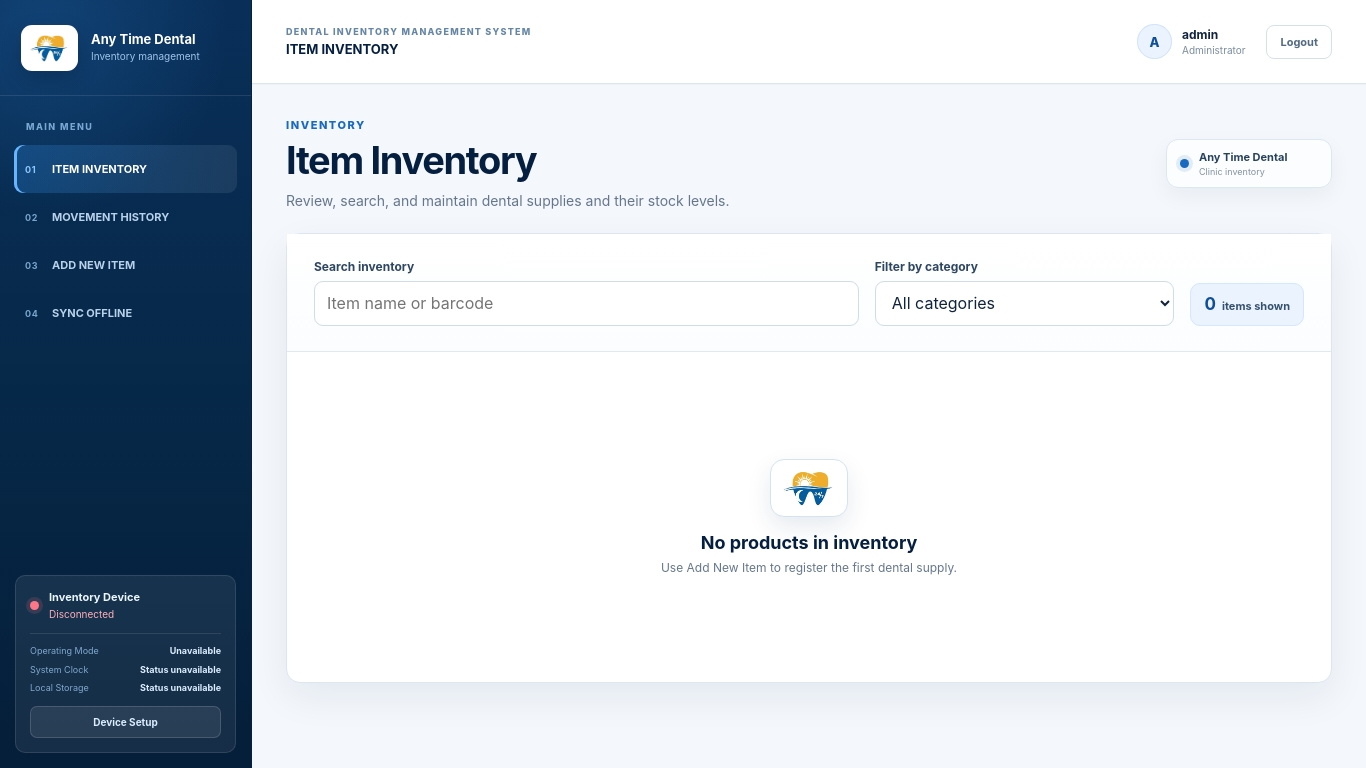
clinic device setup › lets an operator choose among multiple BLE candidates before filling the address
The image size is (1366, 768).
Click the button "Device Setup": {"x": 126, "y": 722} [30,706,221,738]
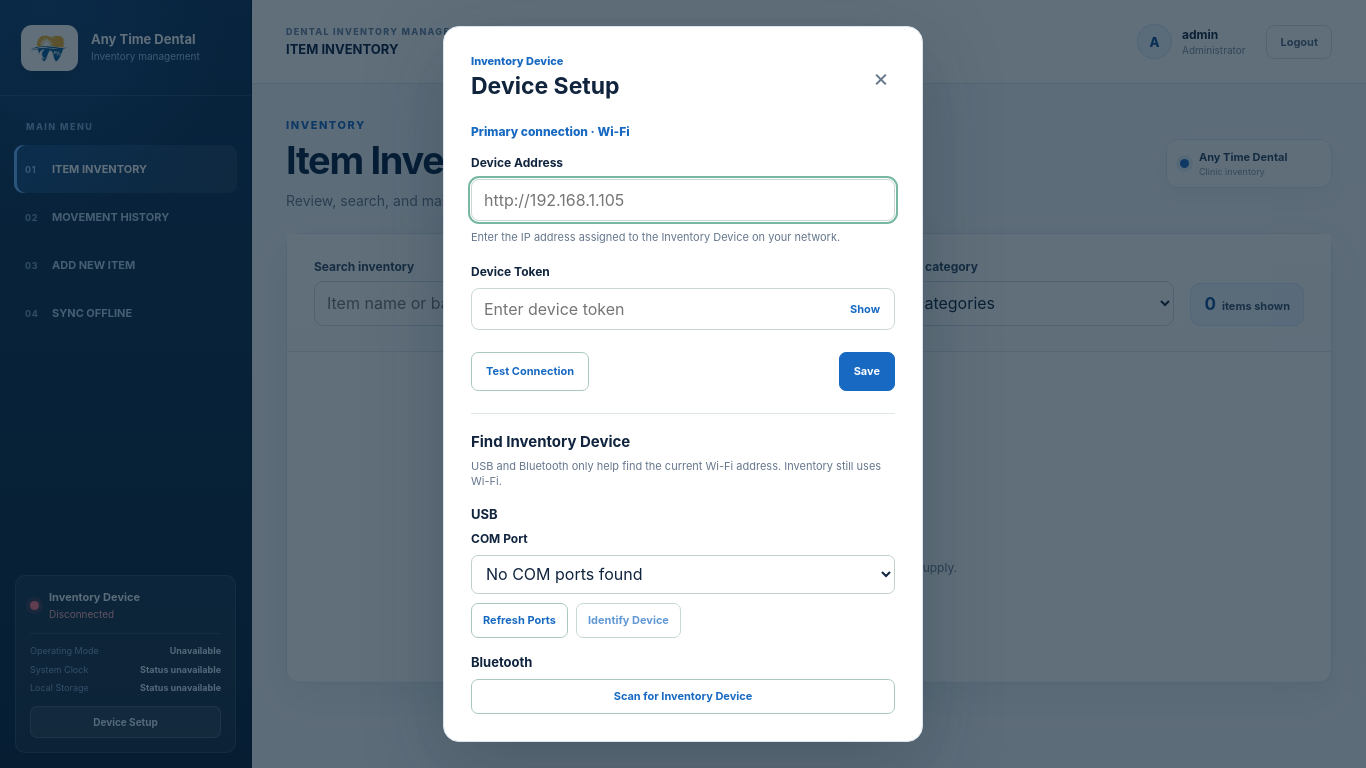
Click the button "Scan for Inventory Device": {"x": 683, "y": 696} [471,679,895,714]
(page scrolled)
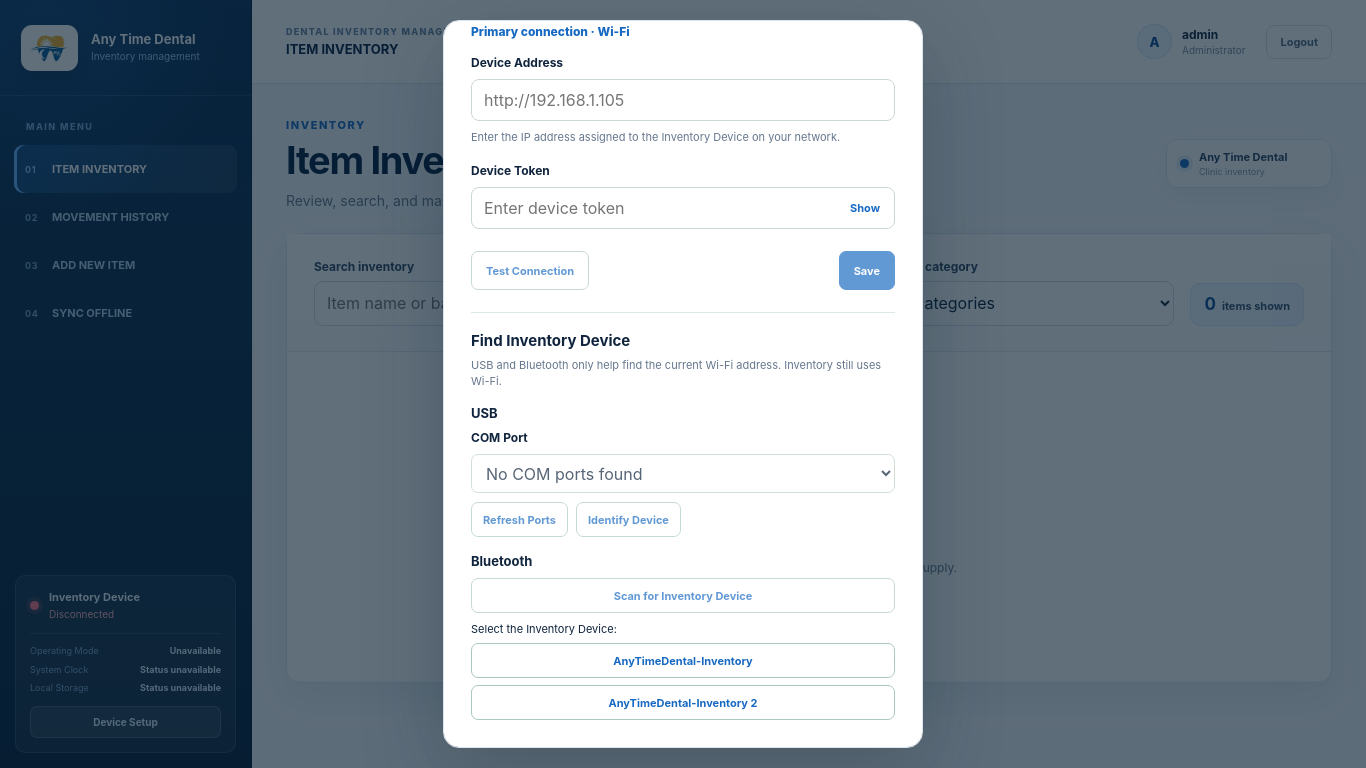
Click the button "AnyTimeDental-Inventory 2": {"x": 683, "y": 703} [471,685,895,720]
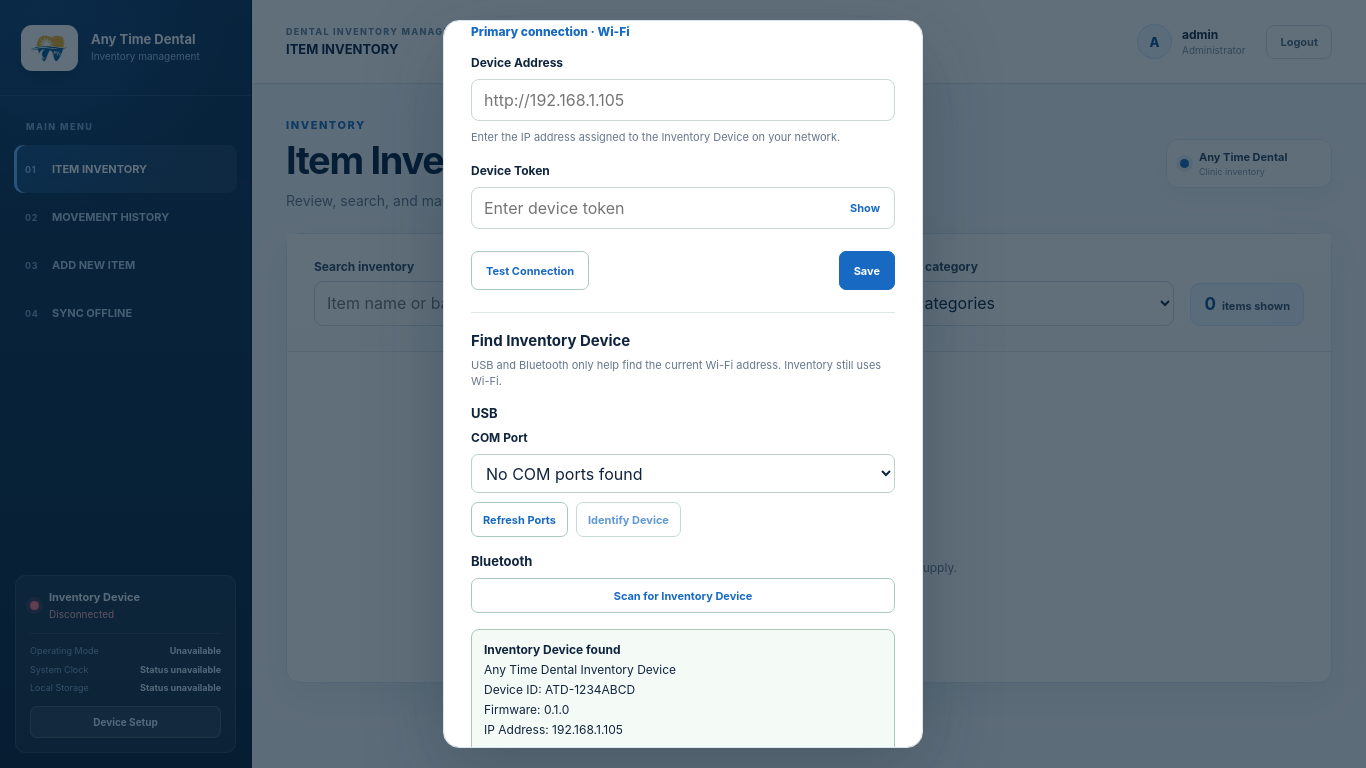
Now the field labelled "Device Address" is empty, box [471,79,895,121]
Now the text "IP Address: 192.168.1.105" is shown, box [484,722,623,737]
